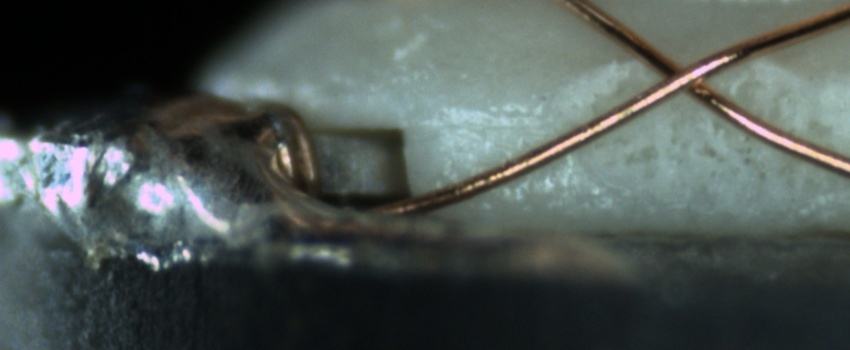CL: (630, 39, 732, 111)
DL: (432, 95, 575, 159)
TE: (256, 94, 330, 206)
